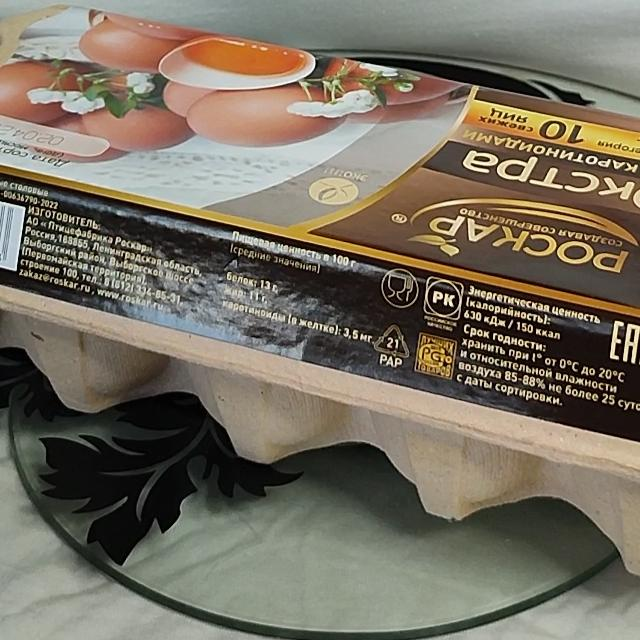egg: (0, 2, 640, 607)
